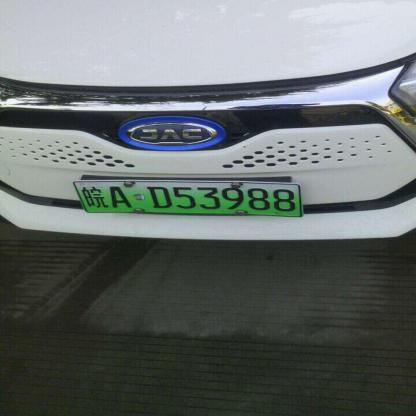lp: (75, 182, 302, 215)
